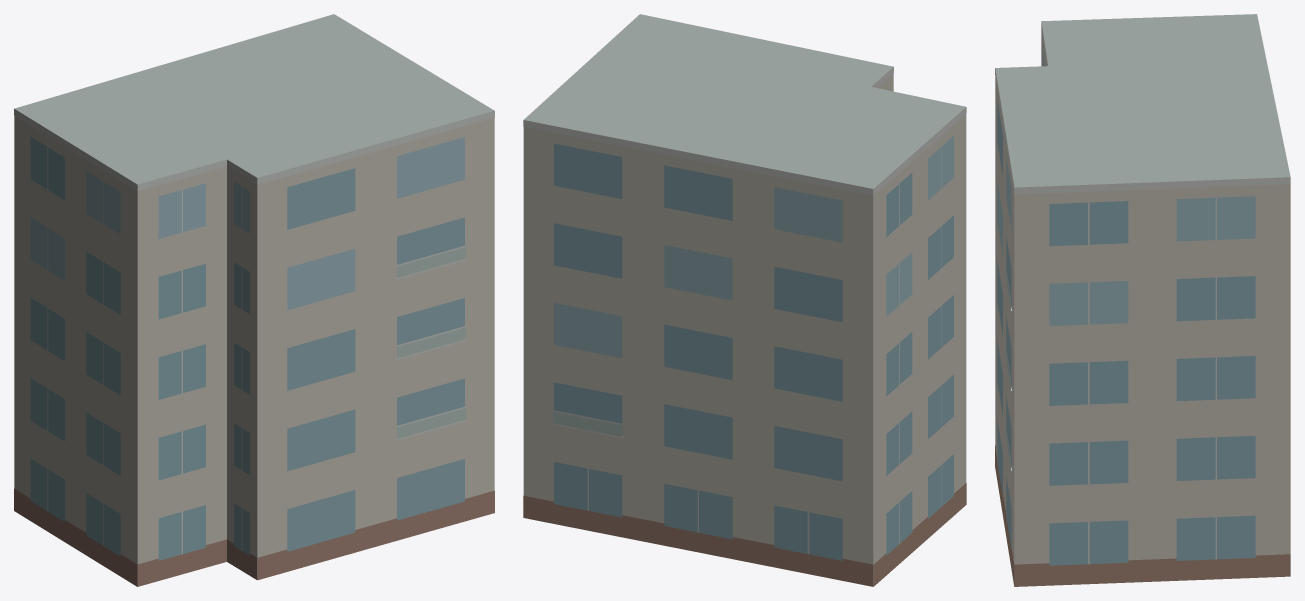
The model's file is survey-upis-32701645.glb.
3 renders of one model, left to right at view 1: azimuth 30°, elevation 25°; view 2: azimuth 150°, elevation 25°; view 3: azimuth 270°, elevation 25°, orthographic.
Visible parts, largest first — view 1: survey-upis-32701645.tmp; view 2: survey-upis-32701645.tmp; view 3: survey-upis-32701645.tmp.
Part boxes in pixels (box(x1,y1,x2,y2)): survey-upis-32701645.tmp: box(14, 14, 494, 586); survey-upis-32701645.tmp: box(523, 14, 966, 586); survey-upis-32701645.tmp: box(995, 14, 1290, 586).
Size of the model in its own units: 13.34 by 14.3 by 9.6.
